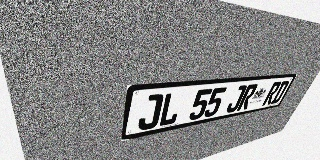5: (188, 88, 213, 121), (203, 87, 227, 118)
D: (270, 80, 290, 104)
J: (137, 93, 164, 131), (225, 85, 248, 113)
L: (158, 91, 184, 127)
R: (236, 84, 259, 111), (262, 81, 282, 106)
